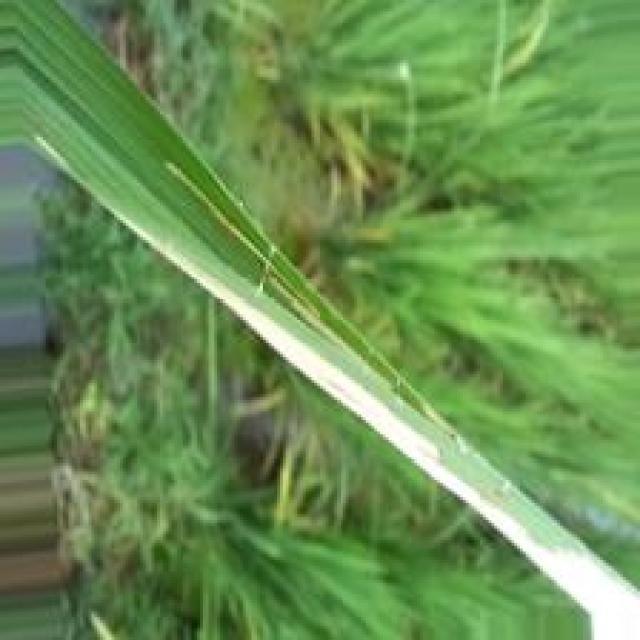Rice_Hispa: (120, 215, 640, 640)
